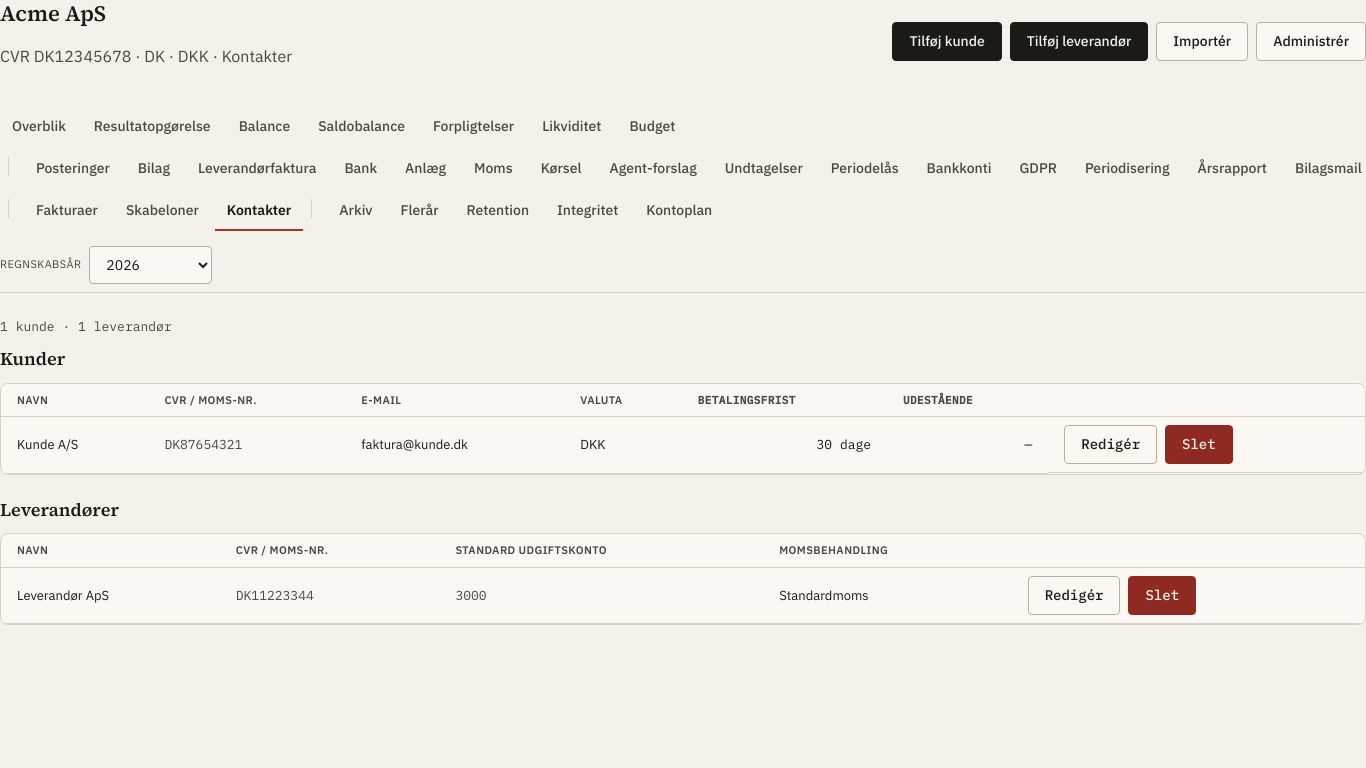
Test: ContactsView — Kontakter › each vendor row has a Slet action that opens a confirm dialog
Click the button with aria-label "Slet Leverandør ApS".
click(1162, 595)  # box 1128,576 -> 1196,614
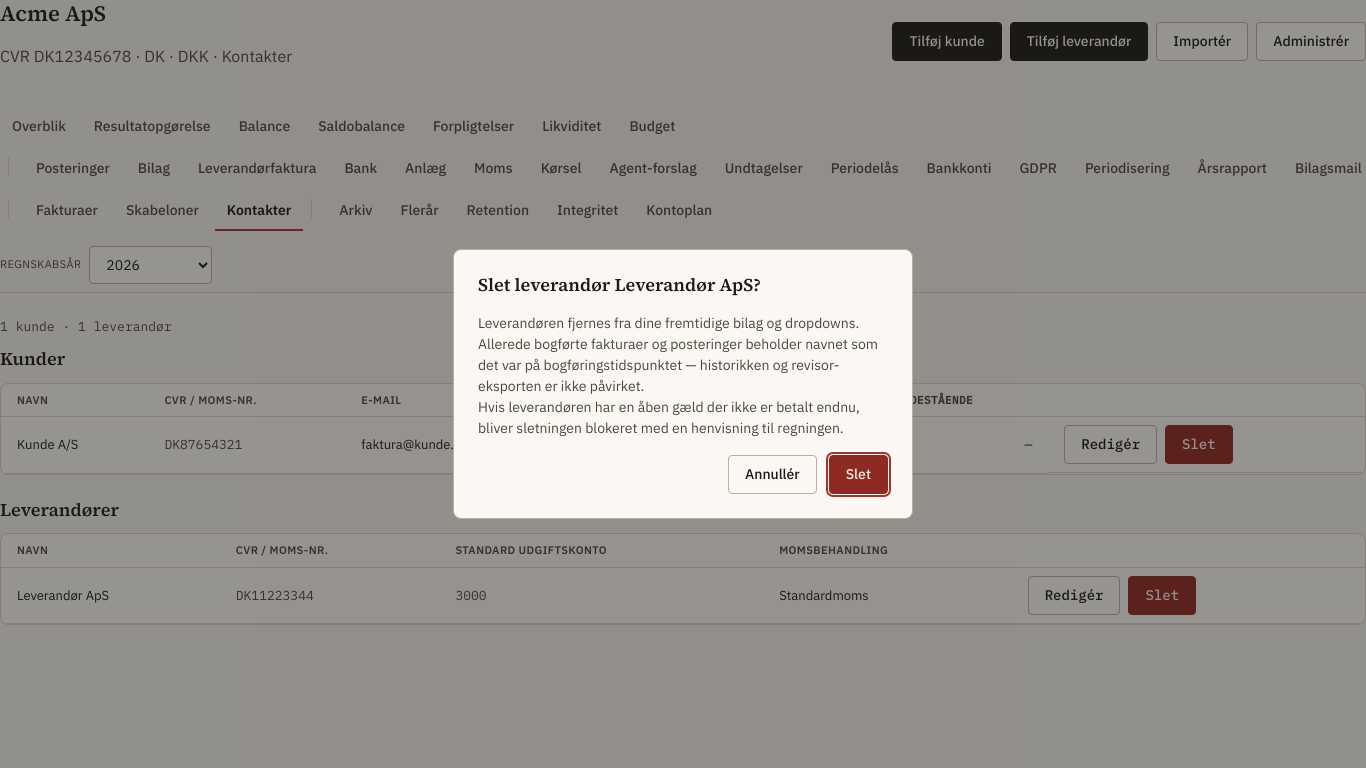
Expected: the dialog "Slet leverandør Leverandør ApS" is shown, 453,249 -> 913,519
